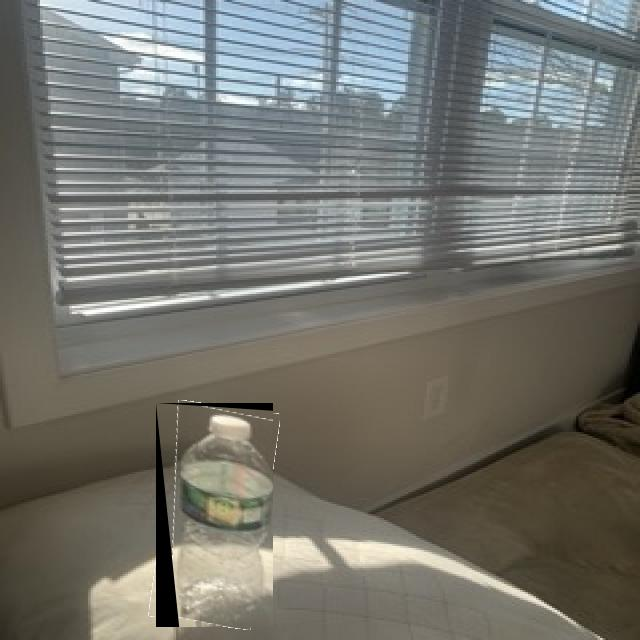water_bottle: (156, 403, 273, 627)
